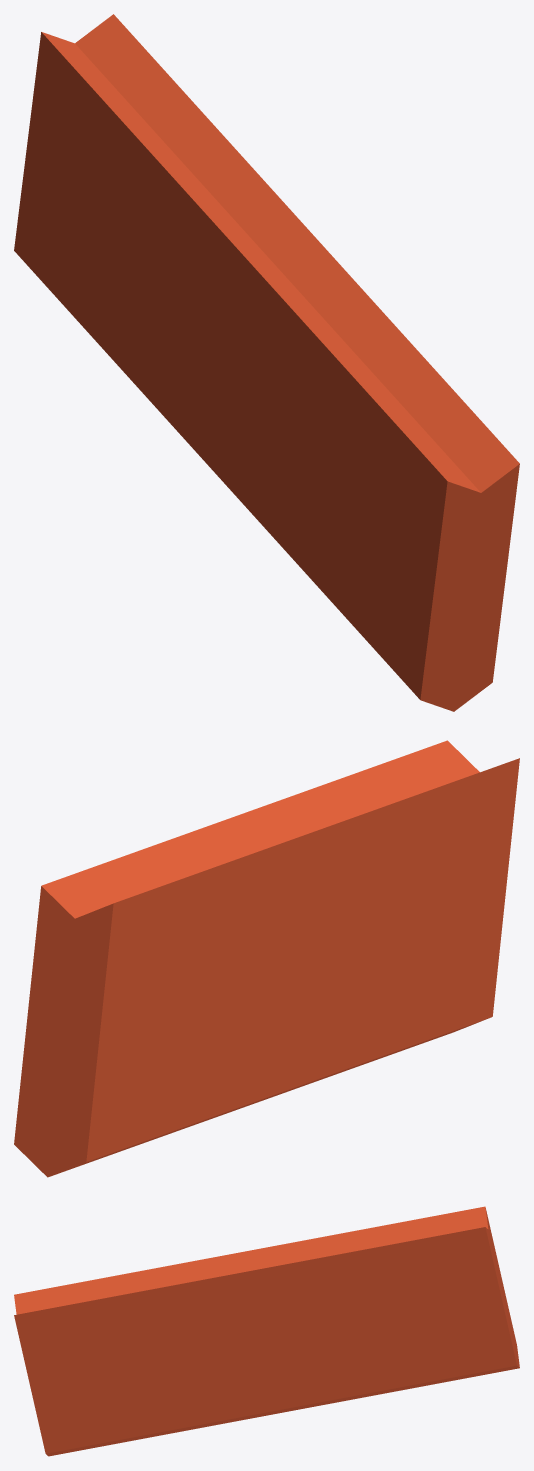
File: slant.gltf
3 renders of one model, top to bottom at view 1: azimuth 30°, elevation 25°; view 2: azimuth 150°, elevation 25°; view 3: azimuth 270°, elevation 25°, orthographic. The views are drawn at different scales.
Parts seen in each view (by area): view 1: Cube; view 2: Cube; view 3: Cube.
Boxes of the visible parts, <box> form: Cube: <box>14,14,519,711</box>; Cube: <box>14,740,519,1177</box>; Cube: <box>14,1206,519,1456</box>.
Bounding box in the file's own units: 1.72 × 9.4 × 17.97.
